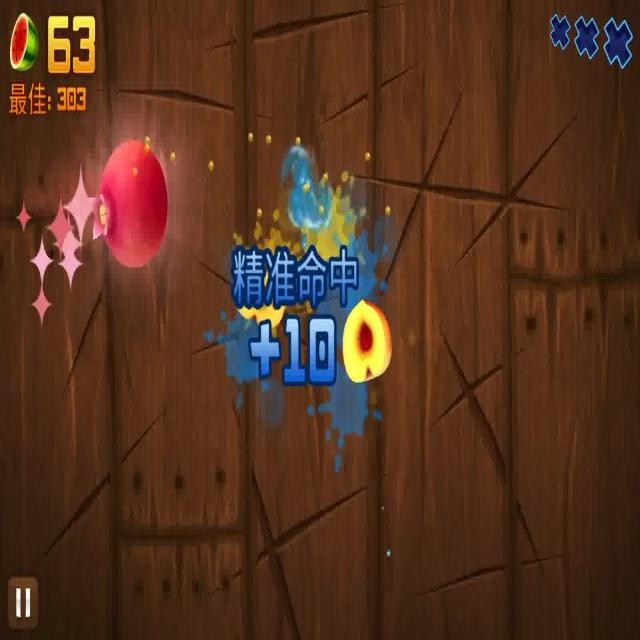fruit: (97, 137, 167, 271), (343, 304, 389, 379)
